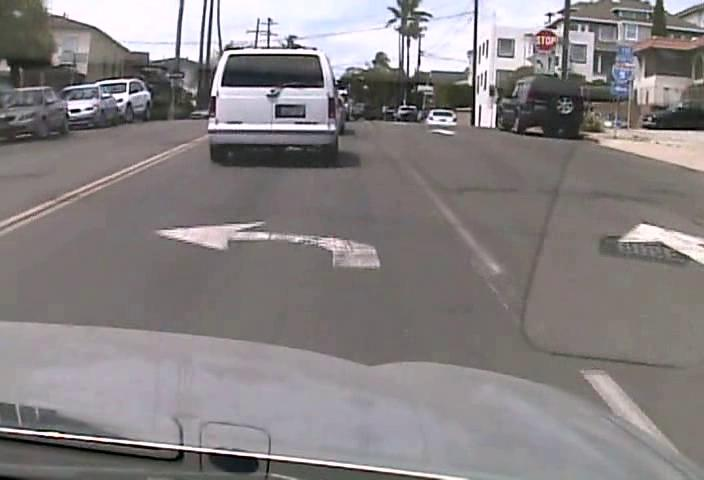stop: (533, 29, 558, 52)
